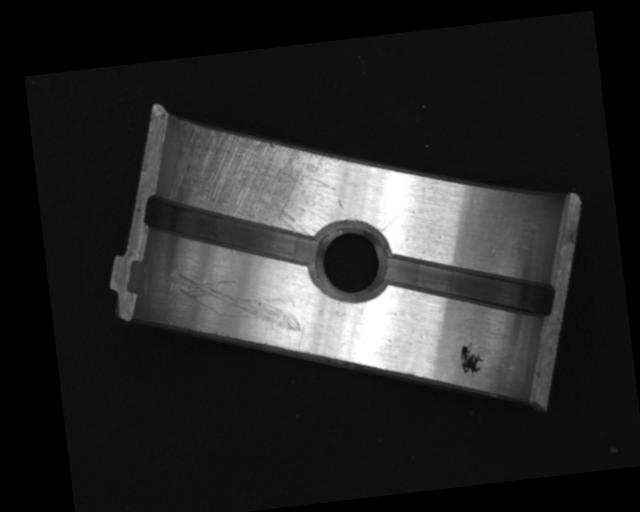blot: (455, 340, 487, 378)
gap: (141, 175, 322, 285), (382, 239, 557, 337)
hole: (313, 224, 391, 304)
nick: (171, 257, 304, 345)
scratch: (164, 101, 342, 255)
